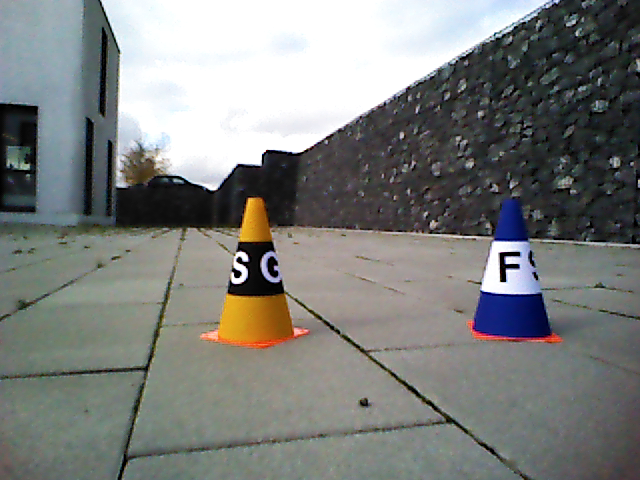bluecone: (476, 199, 551, 338)
yellowcone: (218, 196, 293, 342)
